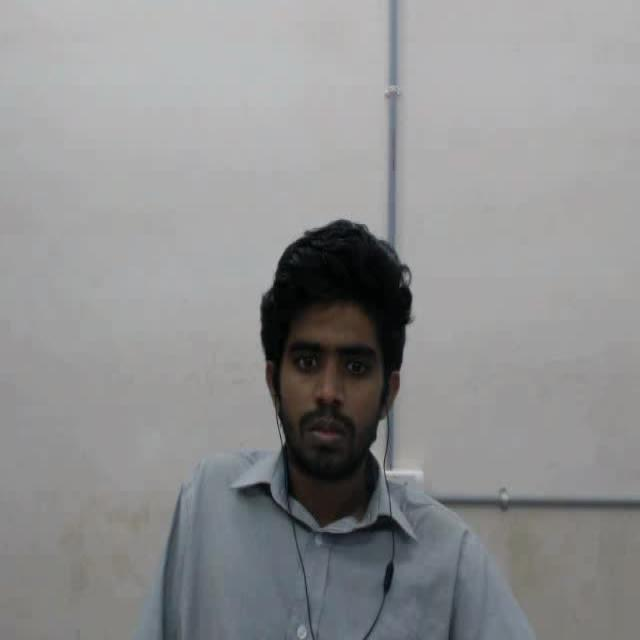Engaged: (231, 187, 433, 494)
